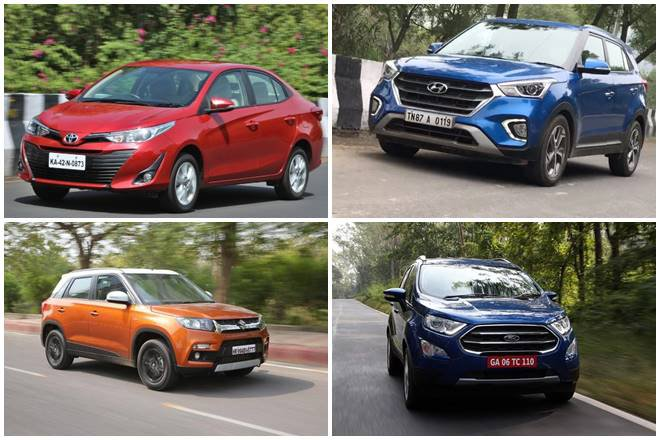car: (372, 18, 646, 185), (21, 57, 323, 200), (391, 249, 582, 407), (41, 267, 269, 384)
